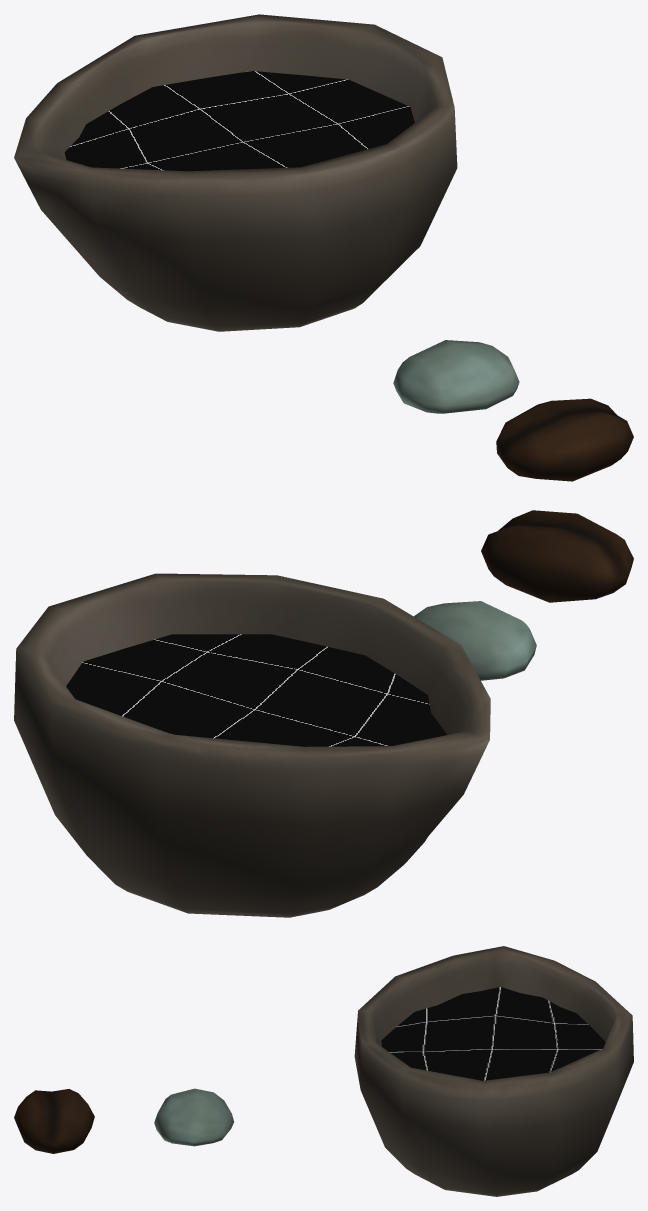
The model's file is coffee_water_cup.FBX.
3 views of the same model, one above another, from view 1: azimuth 30°, elevation 25°; view 2: azimuth 150°, elevation 25°; view 3: azimuth 270°, elevation 25° (orthographic). The views are drawn at different scales.
Visible parts, largest first — view 1: RetopoGroup2, Plane001, Object002, Object001; view 2: RetopoGroup2, Plane001, Object002, Object001; view 3: RetopoGroup2, Plane001, Object002, Object001.
Part boxes in pixels (x1,y1,x2,y2): RetopoGroup2: (14,14,457,331); Plane001: (64,71,414,171); Object002: (496,398,633,481); Object001: (393,340,519,413); RetopoGroup2: (14,573,490,917); Plane001: (66,634,446,746); Object002: (481,510,633,602); Object001: (414,601,536,680); RetopoGroup2: (354,946,633,1196); Plane001: (381,987,605,1080); Object002: (14,1089,94,1153); Object001: (154,1088,233,1146).
Bounding box in the file's own units: 185 × 80 × 326.
Materials: 2 (2 with a texture image).
